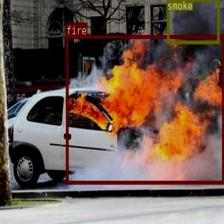fire: (66, 34, 224, 184)
smoke: (166, 0, 219, 43)
